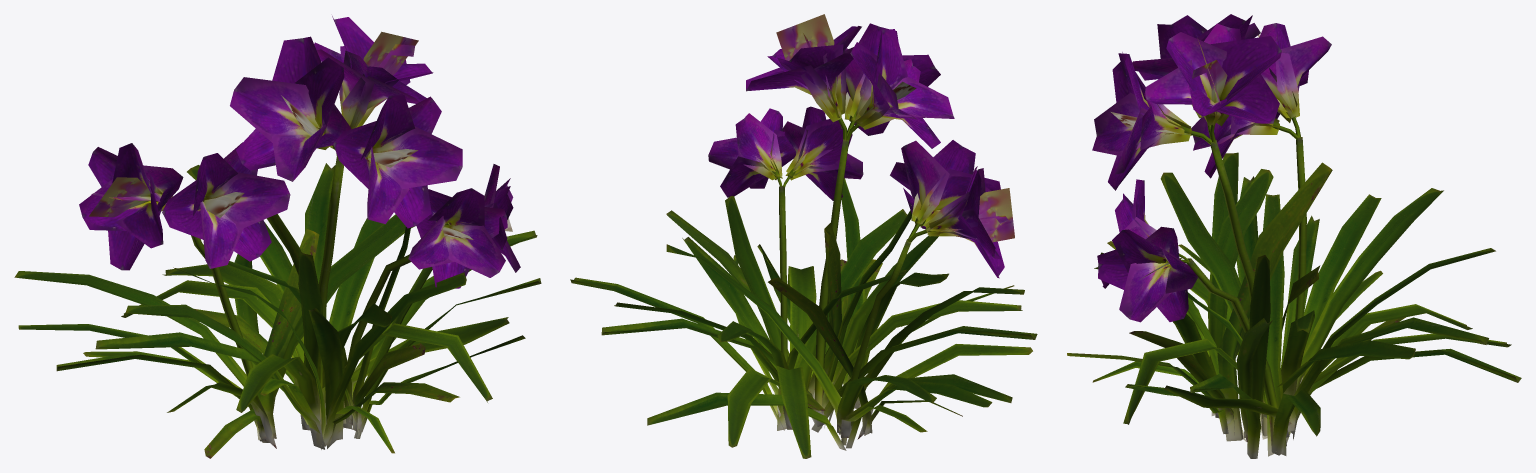
File: Amaryllis_bush_short_purple.glb
3 renders of one model, left to right at view 1: azimuth 30°, elevation 25°; view 2: azimuth 150°, elevation 25°; view 3: azimuth 270°, elevation 25°, orthographic. The views are drawn at different scales.
Parts seen in each view (by area): view 1: bush; view 2: bush; view 3: bush.
Part boxes in pixels (x1,y1,x2,y2): bush: (14, 16, 541, 458); bush: (570, 14, 1037, 458); bush: (1067, 14, 1521, 458).
Size of the model in its own units: 2.76 by 2.32 by 2.27.
1 material, 1 textured.
